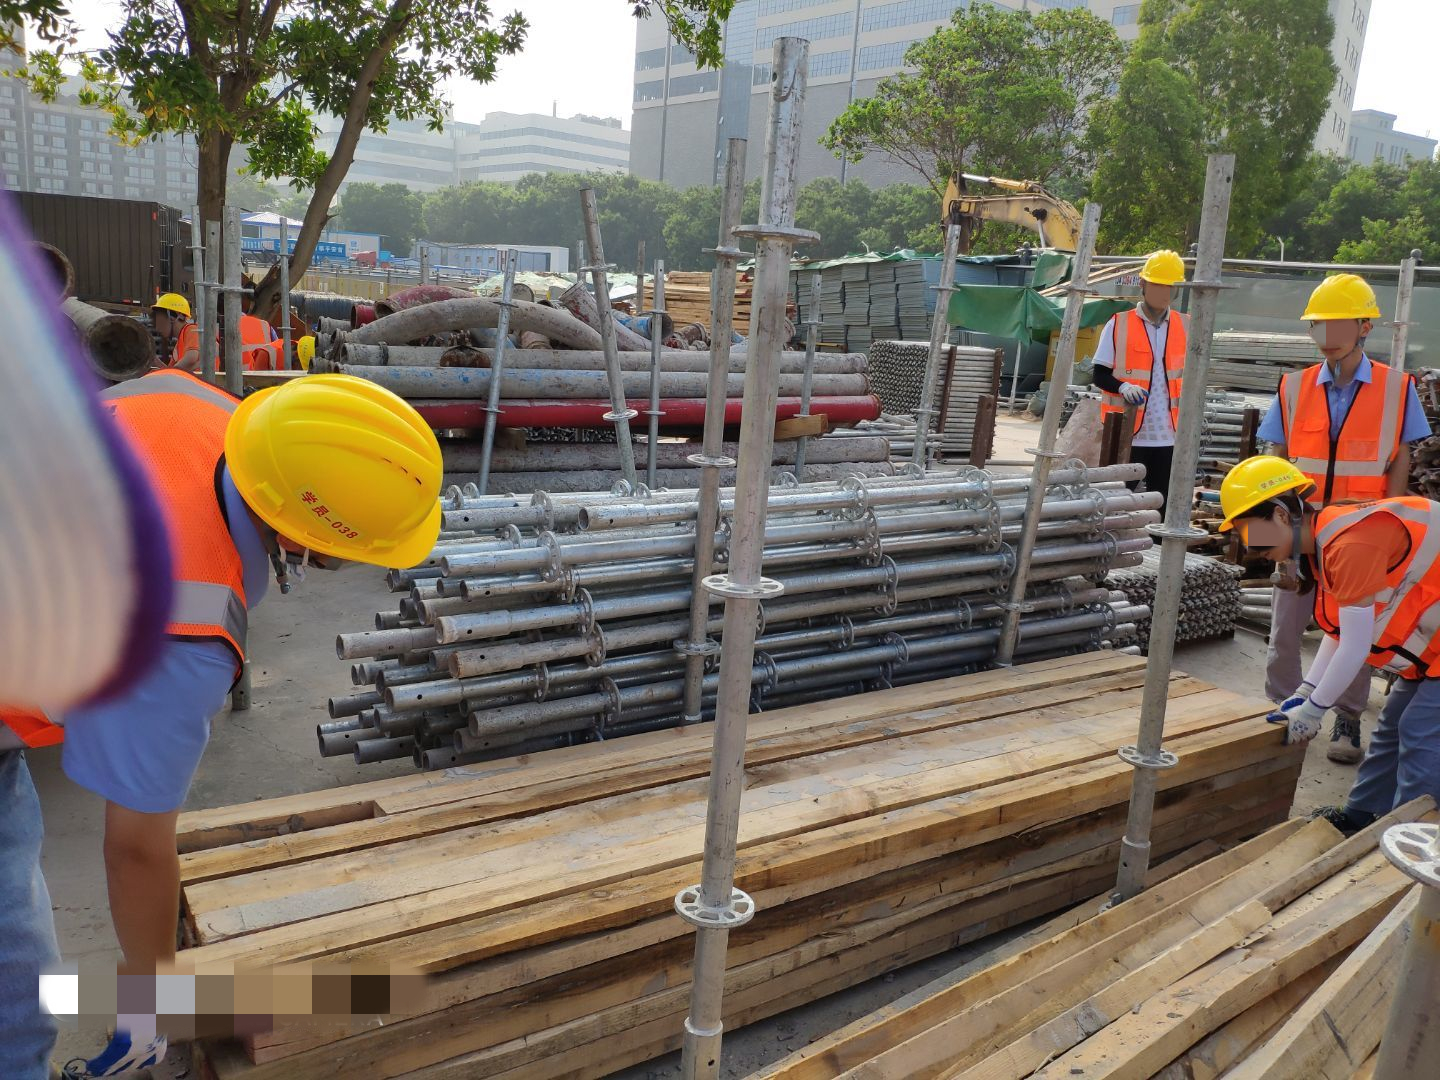helmet: (222, 375, 455, 559), (1221, 461, 1313, 515), (1297, 271, 1380, 326), (1143, 252, 1187, 292)
person: (1, 384, 459, 998), (1214, 458, 1440, 816), (1268, 272, 1427, 517), (1095, 240, 1190, 485)
scaffold: (324, 461, 1204, 765), (858, 333, 1041, 435)
vest: (1, 402, 255, 752), (1310, 498, 1440, 681), (1275, 367, 1410, 506), (1112, 308, 1186, 436)
wood: (113, 643, 1329, 1074), (725, 773, 1437, 1080)
